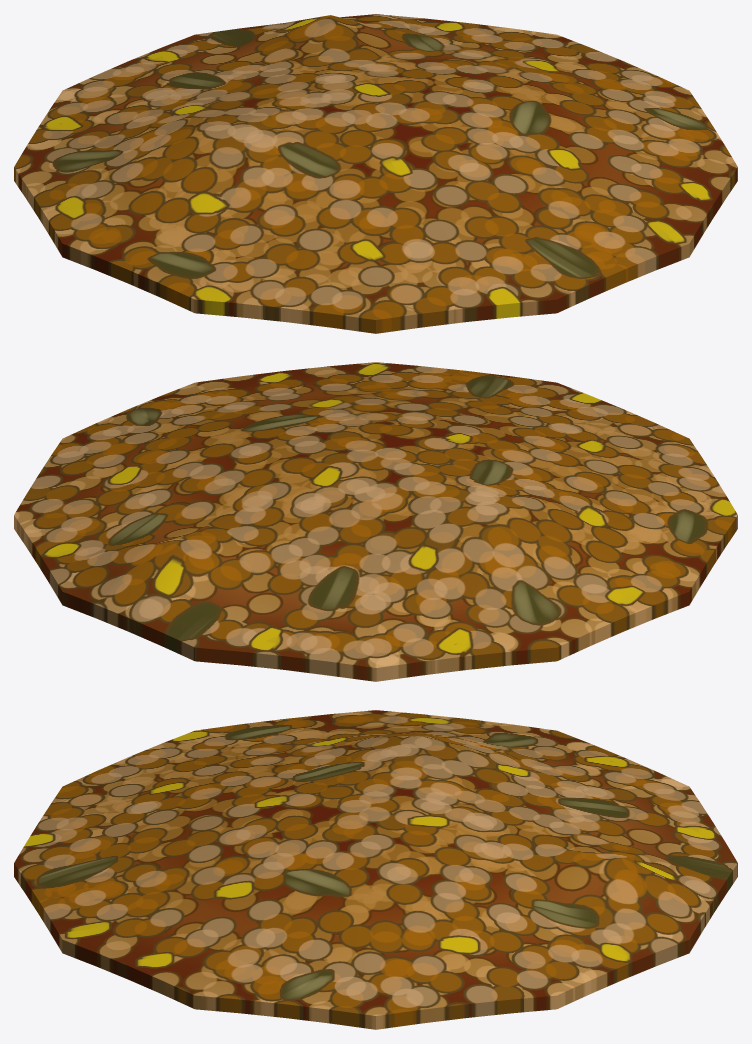
The model's file is birdfeed.fbx.
3 renders of one model, top to bottom at view 1: azimuth 30°, elevation 25°; view 2: azimuth 150°, elevation 25°; view 3: azimuth 270°, elevation 25°, orthographic.
Parts seen in each view (by area): view 1: Birdseed; view 2: Birdseed; view 3: Birdseed.
Part boxes in pixels (<box>): Birdseed: <box>14,14,737,333</box>; Birdseed: <box>14,362,737,681</box>; Birdseed: <box>14,710,737,1029</box>.
Bounding box in the file's own units: 149 × 16.02 × 149.
